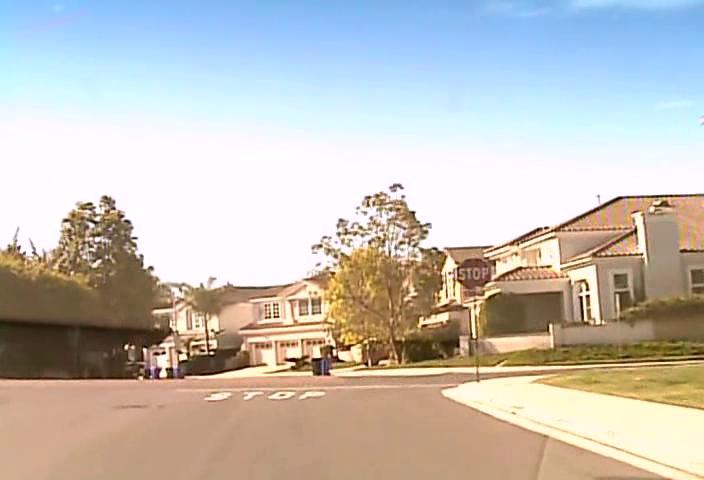stop: (456, 257, 492, 290)
